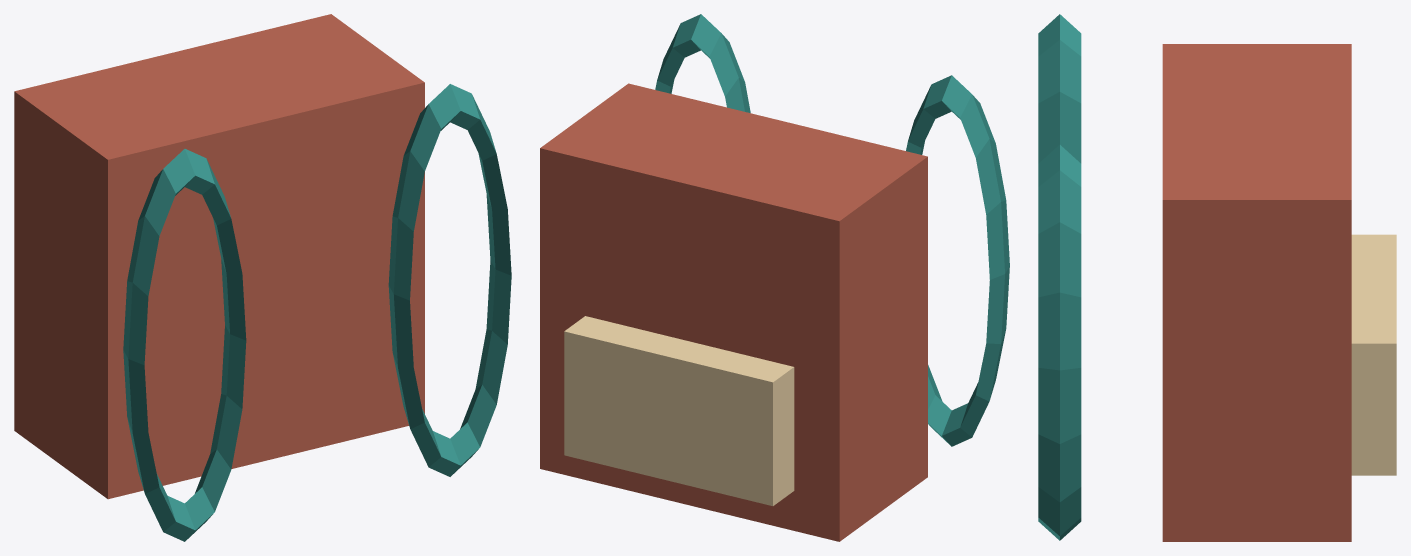
File: outfit_backpack.glb
The picture shows the model from 3 angles, left to right: view 1: azimuth 30°, elevation 25°; view 2: azimuth 150°, elevation 25°; view 3: azimuth 270°, elevation 25°; orthographic projection. The views are drawn at different scales.
Parts seen in each view (by area): view 1: pack, strap, strap.001; view 2: pack, pocket, strap, strap.001; view 3: pack, strap.001, pocket, strap.
Part boxes in pixels (x1=…): pack: x1=14, y1=14, x2=424, y2=499; strap: x1=123, y1=149, x2=246, y2=541; strap.001: x1=388, y1=84, x2=511, y2=476; pack: x1=540, y1=83, x2=927, y2=541; pocket: x1=564, y1=316, x2=794, y2=505; strap: x1=906, y1=75, x2=1009, y2=446; strap.001: x1=655, y1=14, x2=750, y2=112; pack: x1=1162, y1=44, x2=1351, y2=541; strap.001: x1=1038, y1=145, x2=1081, y2=540; pocket: x1=1351, y1=234, x2=1396, y2=475; strap: x1=1038, y1=14, x2=1081, y2=163.
Size of the model in its own units: 0.513 by 0.51 by 0.4175.
